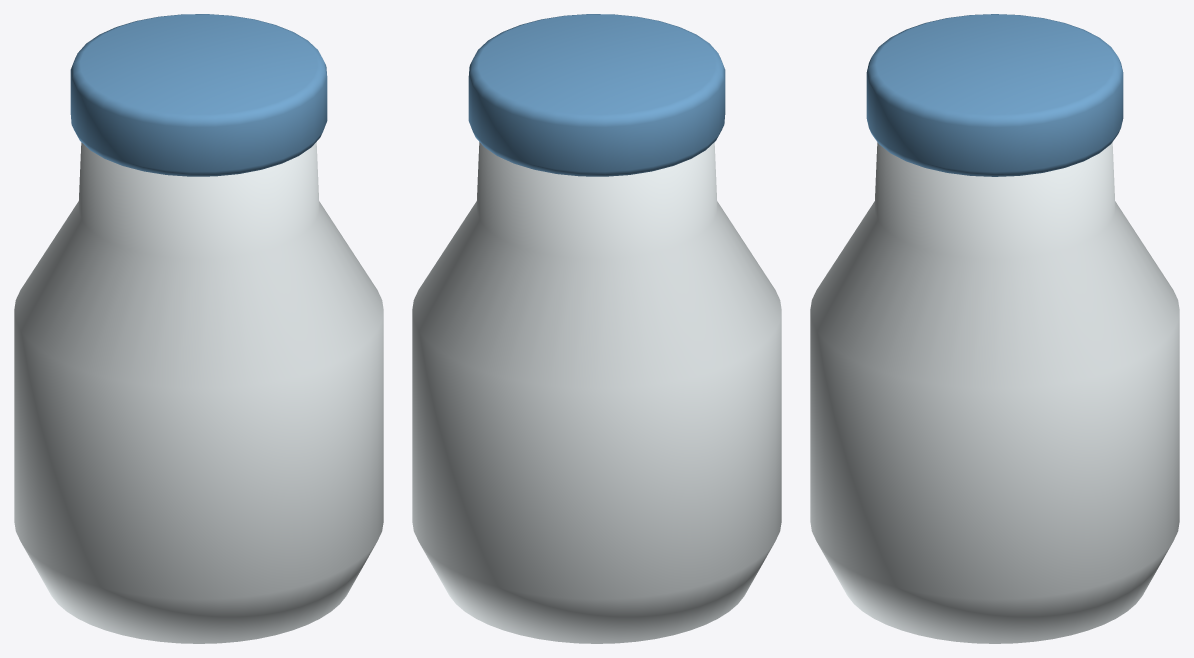
Rendered from Item_Milk.fbx.
3 renders of one model, left to right at view 1: azimuth 30°, elevation 25°; view 2: azimuth 150°, elevation 25°; view 3: azimuth 270°, elevation 25°, orthographic.
Visible parts, largest first — view 1: Day_Milk.001; view 2: Day_Milk.001; view 3: Day_Milk.001.
Boxes of the visible parts, bbox=[...] form: Day_Milk.001: bbox=[14, 14, 383, 643]; Day_Milk.001: bbox=[412, 14, 781, 643]; Day_Milk.001: bbox=[810, 14, 1179, 643].
Bounding box in the file's own units: 46.9 × 72.14 × 46.9.
